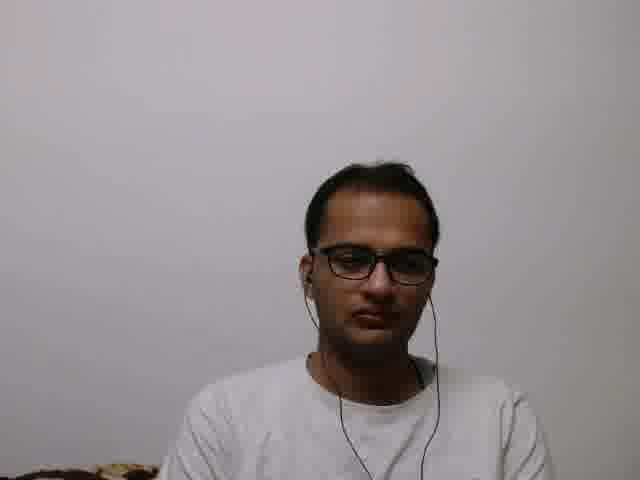bingung: (315, 201, 428, 353)
